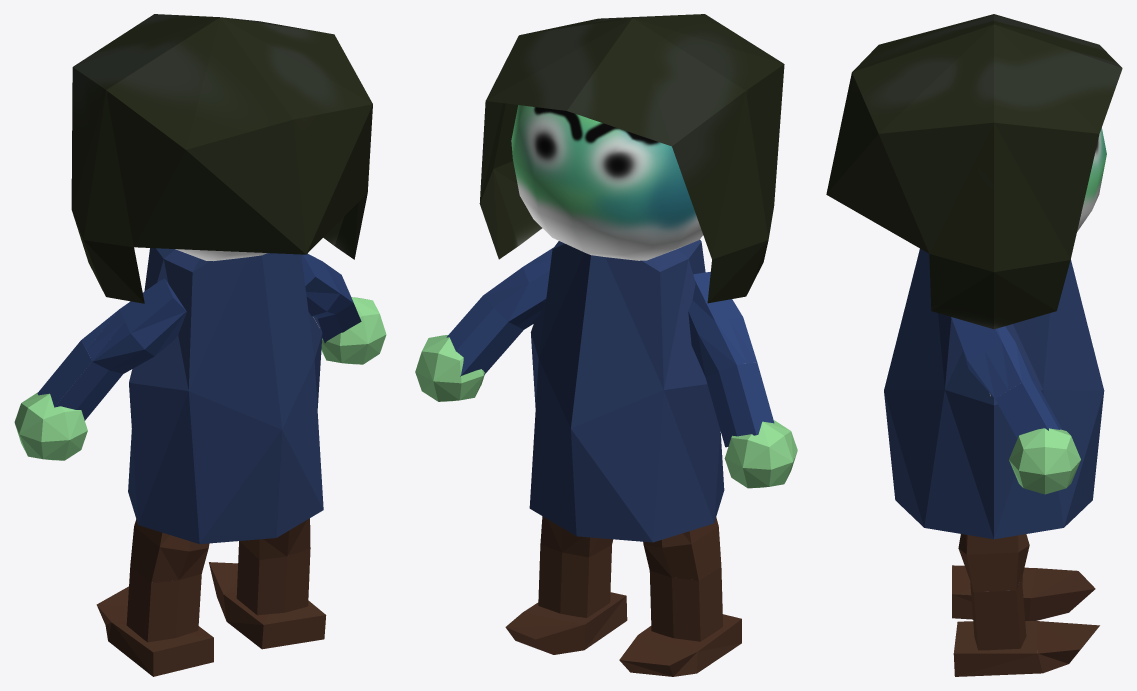
The model's file is ClementModel.dae.
3 renders of one model, left to right at view 1: azimuth 30°, elevation 25°; view 2: azimuth 150°, elevation 25°; view 3: azimuth 270°, elevation 25°, orthographic. The views are drawn at different scales.
Visible parts, largest first — view 1: Cube.001, Cube.002, Cube.004, Cube.006, Cube.003, Cube.005, Cube.007, Cube.008, Cube; view 2: Cube.002, Cube.001, Cube, Cube.004, Cube.006, Cube.003, Cube.007, Cube.005, Cube.008; view 3: Cube.001, Cube.002, Cube.006, Cube.007, Cube.004, Cube.008, Cube.
Boxes of the visible parts, bbox=[...] form: Cube.001: bbox=[71, 14, 372, 303]; Cube.002: bbox=[128, 248, 323, 544]; Cube.004: bbox=[96, 519, 213, 676]; Cube.006: bbox=[209, 518, 326, 649]; Cube.003: bbox=[37, 278, 186, 420]; Cube.005: bbox=[14, 392, 87, 460]; Cube.007: bbox=[301, 253, 361, 343]; Cube.008: bbox=[321, 297, 386, 364]; Cube: bbox=[175, 249, 267, 261]; Cube.002: bbox=[529, 240, 724, 542]; Cube.001: bbox=[479, 14, 784, 303]; Cube: bbox=[511, 105, 702, 260]; Cube.004: bbox=[619, 517, 741, 676]; Cube.006: bbox=[505, 516, 627, 654]; Cube.003: bbox=[688, 271, 774, 447]; Cube.007: bbox=[446, 247, 553, 376]; Cube.005: bbox=[724, 420, 797, 488]; Cube.008: bbox=[415, 335, 484, 401]; Cube.001: bbox=[826, 14, 1122, 329]; Cube.002: bbox=[884, 248, 1104, 539]; Cube.006: bbox=[953, 534, 1099, 676]; Cube.007: bbox=[951, 317, 1062, 438]; Cube.004: bbox=[952, 565, 1095, 620]; Cube.008: bbox=[1009, 428, 1080, 494]; Cube: bbox=[1077, 127, 1106, 231].
Bounding box in the file's own units: 3.09 × 2.2 × 5.03.
9 materials, 9 textured.
